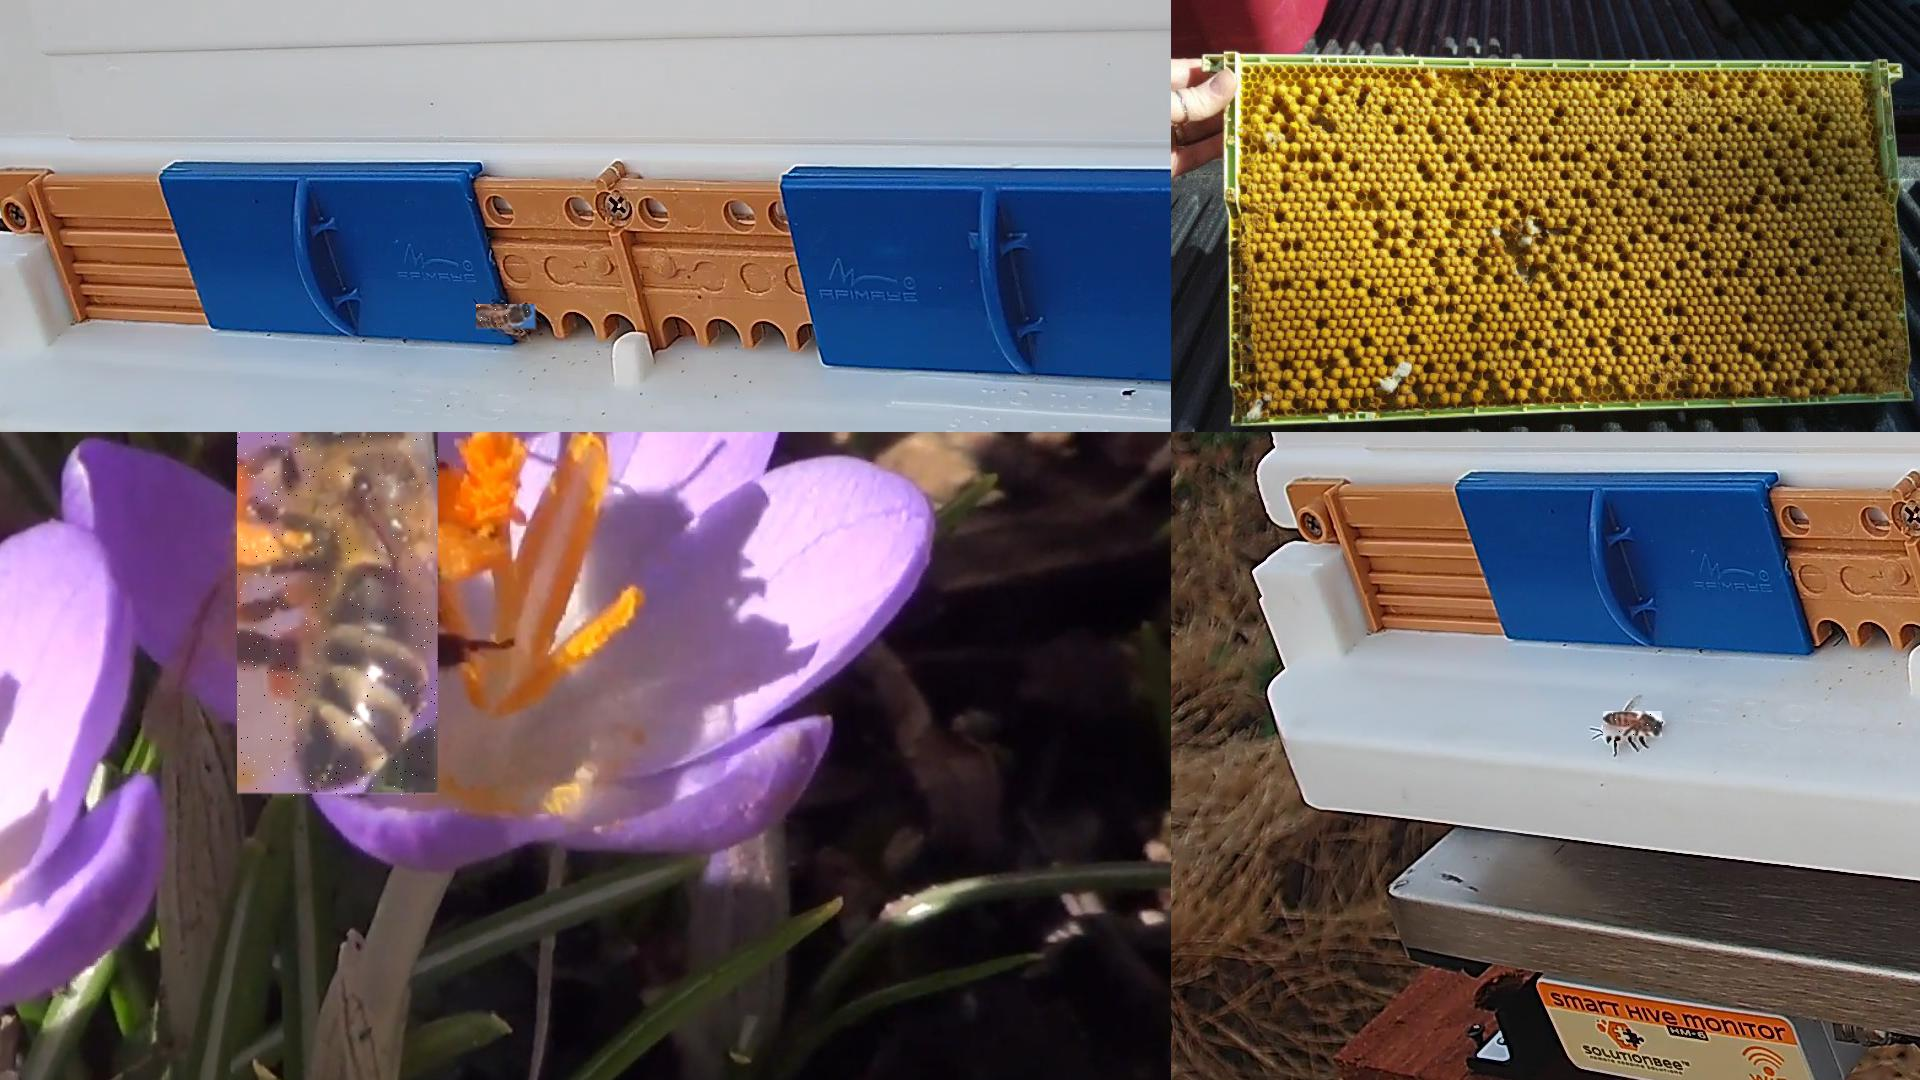bee: (1604, 712, 1663, 741), (477, 305, 539, 332)
pollenbee: (237, 433, 440, 798)
